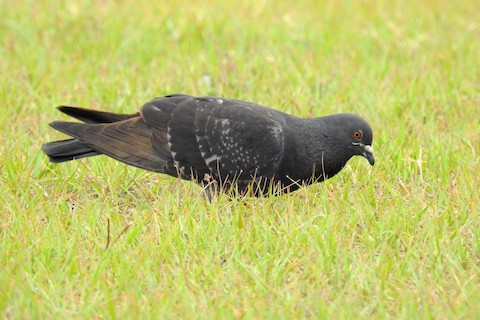pigeon: (40, 87, 381, 214)
